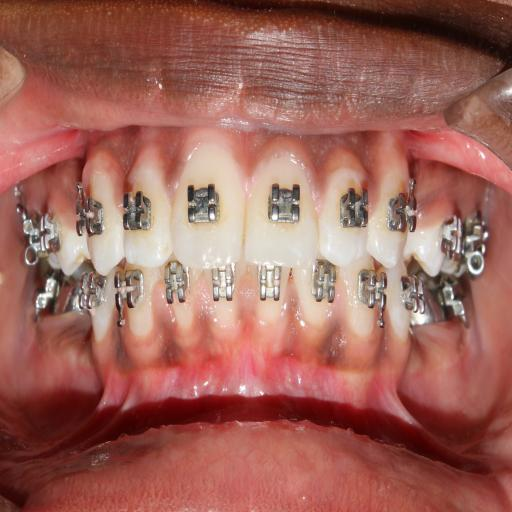correct_brace: (263, 171, 303, 244), (386, 173, 421, 252), (335, 174, 371, 247), (182, 173, 222, 232), (124, 180, 154, 240), (74, 186, 109, 236)
incorrect_brace: (121, 140, 175, 269), (321, 138, 373, 270)
